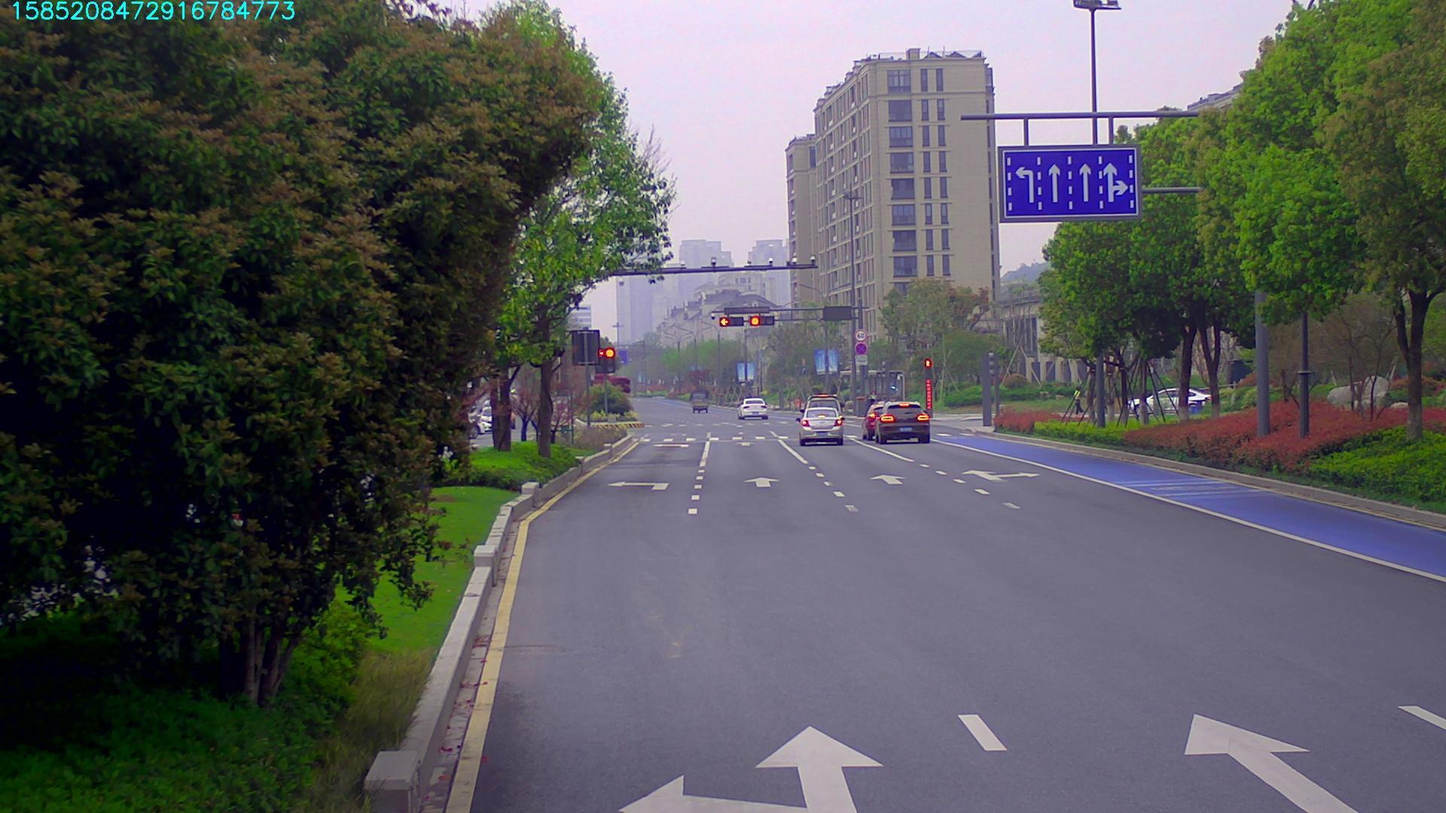red: (715, 315, 743, 327), (749, 315, 779, 326)
